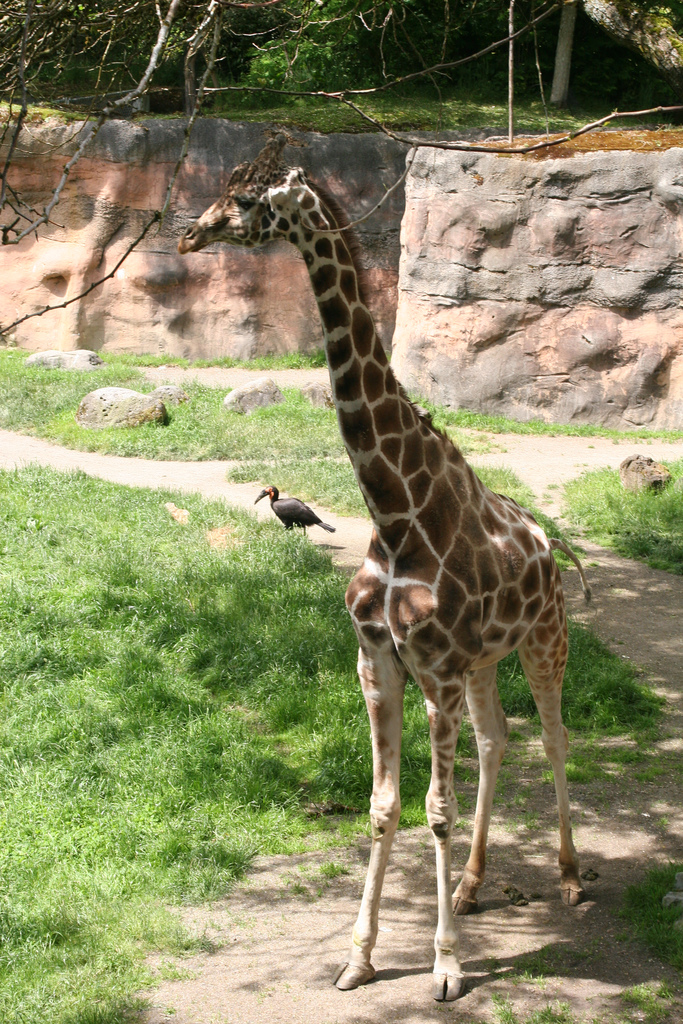giraffe: (188, 138, 609, 973)
